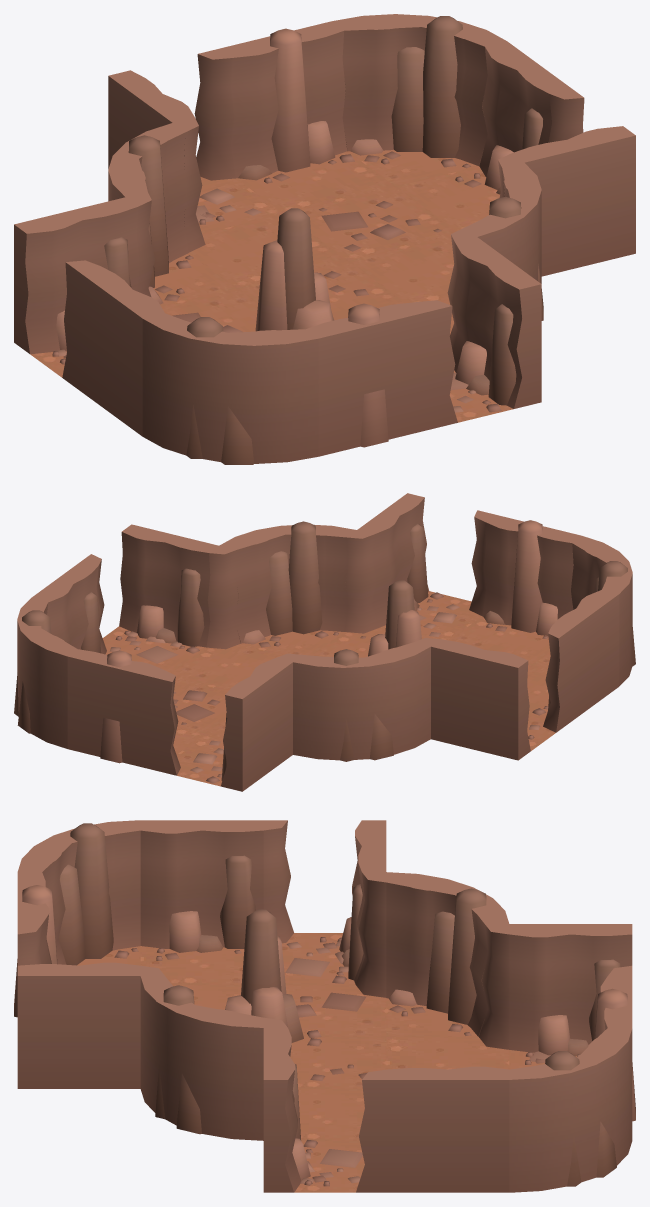
Rendered from room-large-variation.glb.
The picture shows the model from 3 angles, top to bottom: view 1: azimuth 30°, elevation 25°; view 2: azimuth 150°, elevation 25°; view 3: azimuth 270°, elevation 25°; orthographic projection. The views are drawn at different scales.
Visible parts, largest first — view 1: room-large-variation; view 2: room-large-variation; view 3: room-large-variation.
Boxes of the visible parts, x1,y1,x2,y2 form: room-large-variation: (14, 14, 635, 464); room-large-variation: (14, 493, 635, 791); room-large-variation: (14, 820, 635, 1192).
Bounding box in the file's own units: 20 × 4.4 × 20.23.
1 material, 1 textured.
